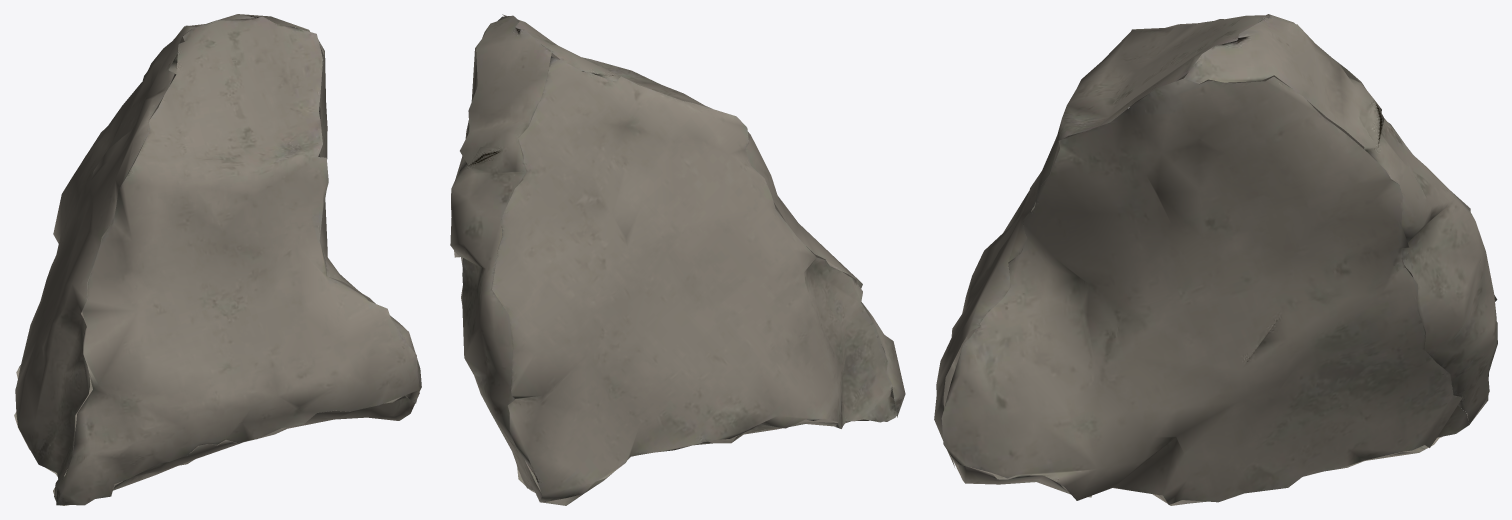
The model's file is moonrock_b.glb.
The picture shows the model from 3 angles, left to right: view 1: azimuth 30°, elevation 25°; view 2: azimuth 150°, elevation 25°; view 3: azimuth 270°, elevation 25°; orthographic projection. The views are drawn at different scales.
Parts seen in each view (by area): view 1: moonrock_b_v0_lod0; view 2: moonrock_b_v0_lod0; view 3: moonrock_b_v0_lod0.
Boxes of the visible parts, x1,y1,x2,y2 form: moonrock_b_v0_lod0: (14,14,421,505); moonrock_b_v0_lod0: (450,14,905,505); moonrock_b_v0_lod0: (934,14,1497,505).
Size of what is drawn, in the model's own units: 0.0717 by 0.0735 by 0.0809.
1 material, 1 textured.
